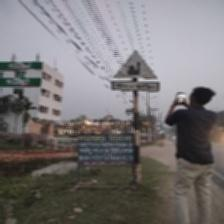Mosque in front: (111, 50, 160, 92)
